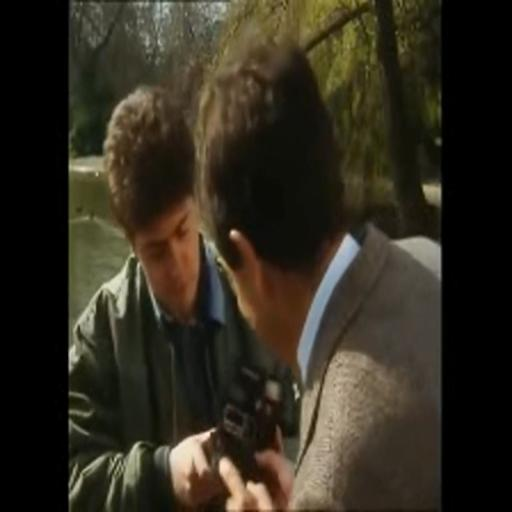nao-violencia: (69, 27, 444, 512)
